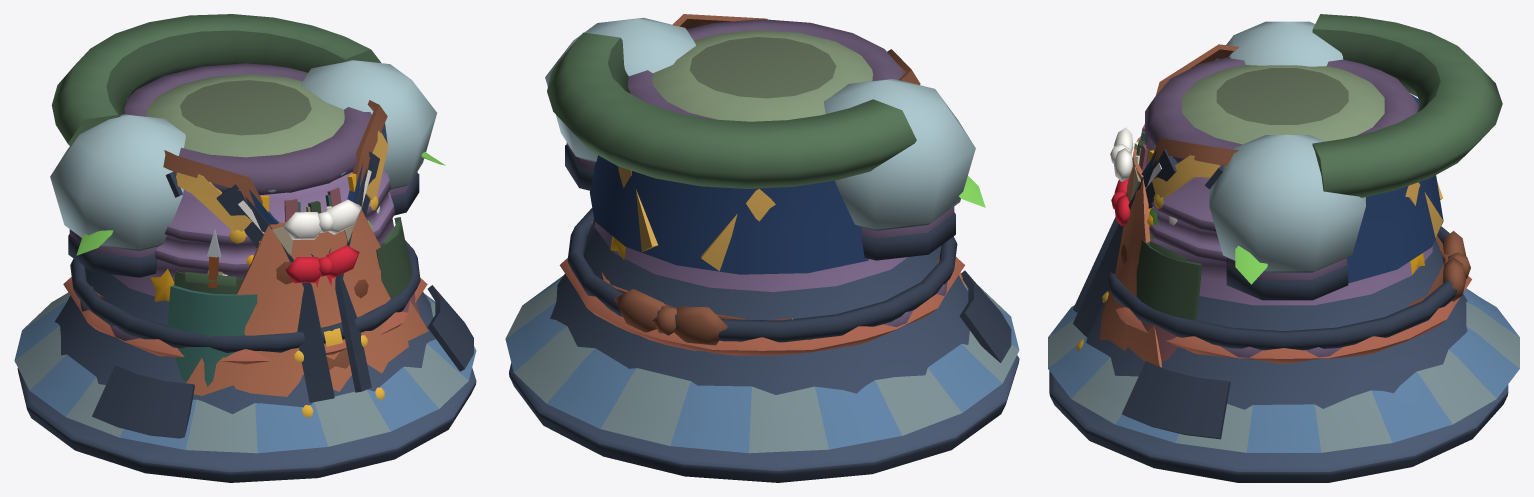
Rendered from wm-garments.glb.
3 renders of one model, left to right at view 1: azimuth 30°, elevation 25°; view 2: azimuth 150°, elevation 25°; view 3: azimuth 270°, elevation 25°, orthographic. The views are drawn at different scales.
Parts seen in each view (by area): view 1: garment_midnight@body, garment_sky@body, garment_fern@body, garment_clay@body, garment_plum@body, garment_sky_sleeve_l@arm-left, garment_meadow@body, garment_sky_sleeve_r@arm-right, garment_sage@body, garment_harbor@body, garment_coral@body, garment_honey@body (+6 smaller); view 2: garment_midnight@body, garment_sky@body, garment_fern@body, garment_harbor@body, garment_meadow@body, garment_sky_sleeve_l@arm-left, garment_plum@body, garment_coral@body, garment_clay@body, garment_sky_sleeve_r@arm-right, garment_midnight_sleeve_l@arm-left, garment_honey@body (+2 smaller); view 3: garment_midnight@body, garment_sky@body, garment_fern@body, garment_sky_sleeve_r@arm-right, garment_plum@body, garment_meadow@body, garment_clay@body, garment_harbor@body, garment_sky_sleeve_l@arm-left, garment_coral@body, garment_midnight_sleeve_r@arm-right, garment_honey@body (+3 smaller).
Boxes of the visible parts, box(x1,y1,x2,y2) form: garment_midnight@body: box(17, 123, 476, 482); garment_sky@body: box(14, 172, 476, 453); garment_fern@body: box(51, 14, 411, 298); garment_clay@body: box(92, 100, 428, 396); garment_plum@body: box(80, 63, 395, 348); garment_sky_sleeve_l@arm-left: box(50, 114, 185, 250); garment_meadow@body: box(146, 74, 344, 209); garment_sky_sleeve_r@arm-right: box(300, 60, 436, 189); garment_sage@body: box(167, 194, 331, 386); garment_harbor@body: box(238, 164, 371, 287); garment_coral@body: box(63, 206, 427, 364); garment_honey@body: box(176, 130, 388, 243); garment_midnight@body: box(509, 208, 1019, 482); garment_sky@body: box(505, 275, 1019, 453); garment_fern@body: box(547, 32, 916, 188); garment_harbor@body: box(589, 155, 868, 274); garment_meadow@body: box(652, 30, 872, 121); garment_sky_sleeve_l@arm-left: box(823, 78, 975, 230); garment_plum@body: box(594, 19, 947, 339); garment_coral@body: box(559, 257, 964, 355); garment_clay@body: box(591, 14, 966, 345); garment_sky_sleeve_r@arm-right: box(545, 17, 695, 162); garment_midnight_sleeve_l@arm-left: box(861, 212, 955, 260); garment_honey@body: box(618, 166, 775, 270); garment_midnight@body: box(1049, 149, 1508, 482); garment_sky@body: box(1048, 127, 1519, 452); garment_fern@body: box(1136, 14, 1502, 320); garment_sky_sleeve_r@arm-right: box(1209, 134, 1365, 272); garment_plum@body: box(1110, 56, 1432, 359); garment_meadow@body: box(1134, 65, 1384, 164); garment_clay@body: box(1099, 44, 1470, 367); garment_harbor@body: box(1111, 94, 1443, 283); garment_sky_sleeve_l@arm-left: box(1215, 21, 1343, 66); garment_coral@body: box(1115, 216, 1471, 363); garment_midnight_sleeve_r@arm-right: box(1226, 258, 1348, 300); garment_honey@body: box(1152, 155, 1442, 237).
Size of the model in its own units: 1.3 by 1.04 by 1.3.
